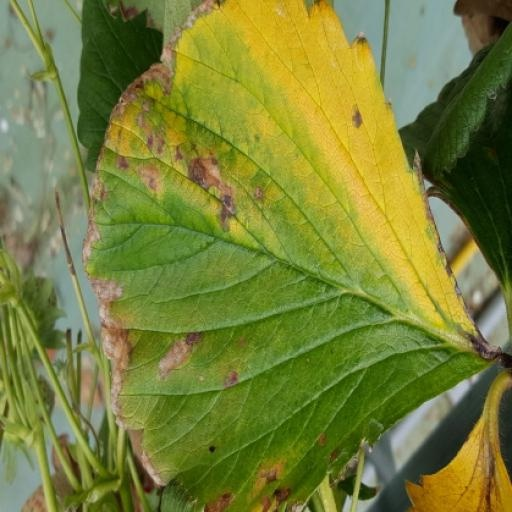Angular Leafspot: (15, 0, 430, 511)
